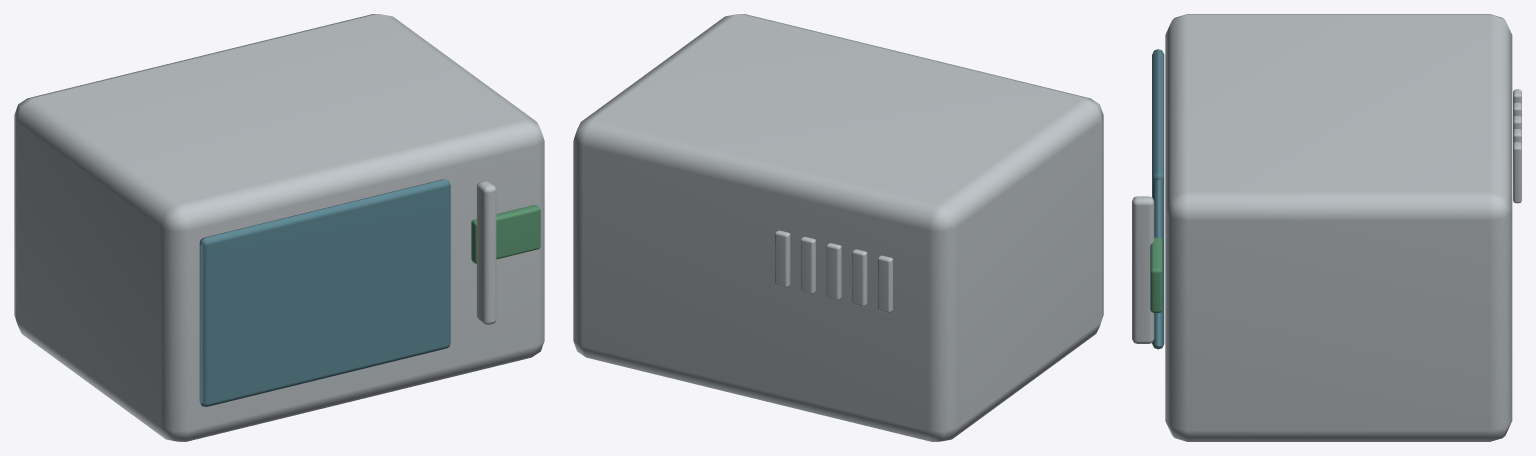
Rendered from microwave_silver.glb.
3 renders of one model, left to right at view 1: azimuth 30°, elevation 25°; view 2: azimuth 150°, elevation 25°; view 3: azimuth 270°, elevation 25°, orthographic. The views are drawn at different scales.
Parts seen in each view (by area): view 1: microwave, door window, handle, digital display; view 2: microwave, vent, vent.001, vent.002, vent.004, vent.003; view 3: microwave, handle, door window, digital display, vent.004.
Part boxes in pixels (x1=…): microwave: x1=14, y1=14, x2=544, y2=441; door window: x1=199, y1=179, x2=450, y2=406; handle: x1=476, y1=181, x2=496, y2=324; digital display: x1=471, y1=205, x2=540, y2=263; microwave: x1=573, y1=14, x2=1103, y2=441; vent: x1=877, y1=255, x2=893, y2=312; vent.001: x1=852, y1=249, x2=867, y2=306; vent.002: x1=826, y1=243, x2=841, y2=300; vent.004: x1=775, y1=230, x2=790, y2=287; vent.003: x1=800, y1=236, x2=815, y2=293; microwave: x1=1165, y1=14, x2=1512, y2=441; handle: x1=1132, y1=196, x2=1154, y2=343; door window: x1=1152, y1=49, x2=1164, y2=349; digital display: x1=1150, y1=237, x2=1162, y2=312; vent.004: x1=1513, y1=142, x2=1521, y2=203.
Bounding box in the file's own units: 0.52 × 0.31 × 0.4385.
